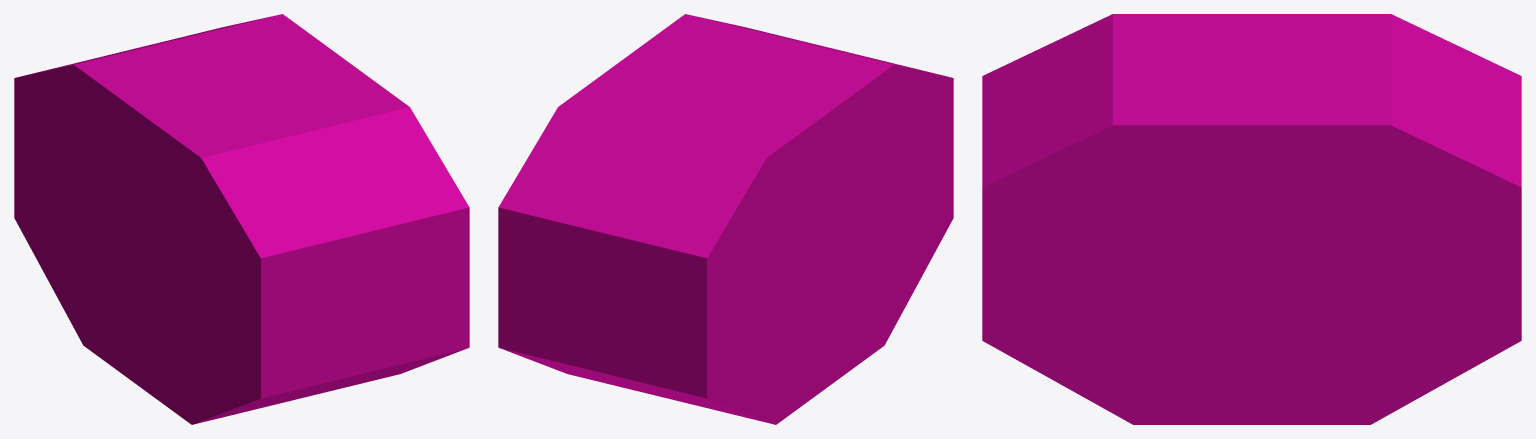
File: head_collision.dae
The picture shows the model from 3 angles, left to right: view 1: azimuth 30°, elevation 25°; view 2: azimuth 150°, elevation 25°; view 3: azimuth 270°, elevation 25°; orthographic projection. The views are drawn at different scales.
Visible parts, largest first — view 1: head_collision; view 2: head_collision; view 3: head_collision.
Boxes of the visible parts, bbox=[...] form: head_collision: bbox=[14, 14, 469, 424]; head_collision: bbox=[498, 14, 953, 424]; head_collision: bbox=[982, 14, 1521, 424].
Bounding box in the file's own units: 0.1636 × 0.3346 × 0.2051.
